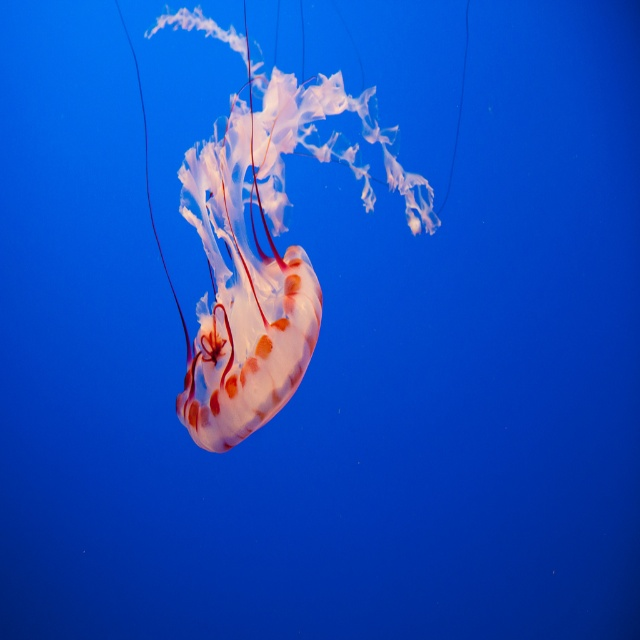Jellyfish: (114, 0, 322, 451)
